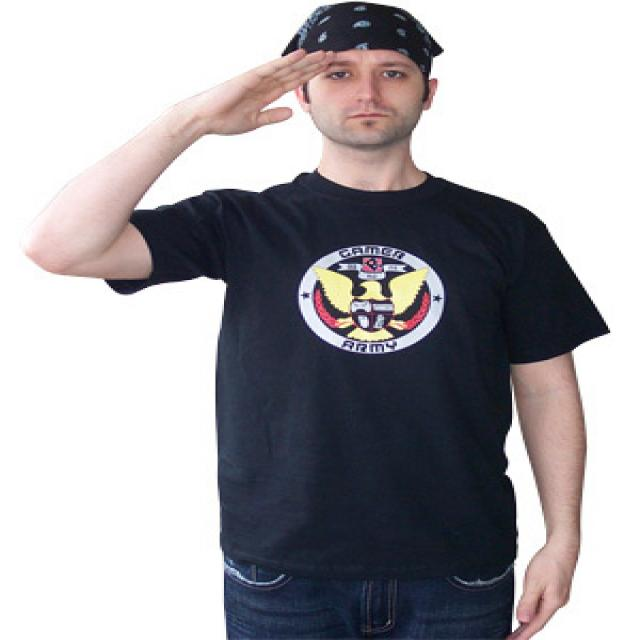T-shirt: (126, 167, 614, 586)
